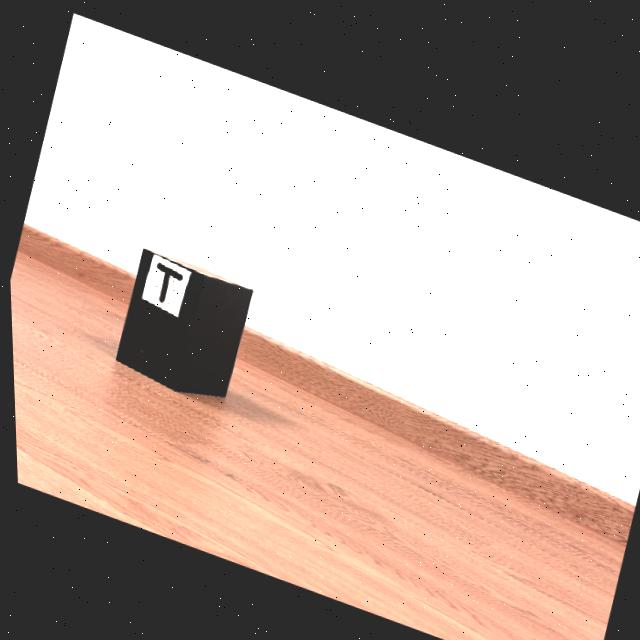T: (155, 259, 180, 299)
